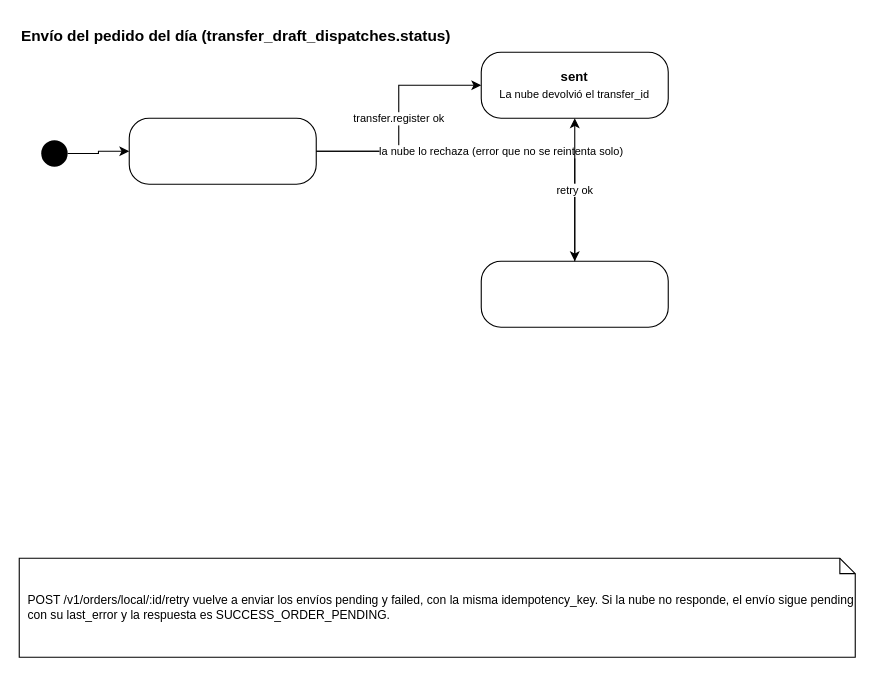
This 875x677 diagram has some shape labels left out. The shapes that lost their labels are listed below. From the top down, each one's centre as x and y in pixels, then its label:
(x=222, y=150): pending Creado al enviar; también si la nube no responde (last_error)
(x=574, y=293): failed Se guarda last_error
